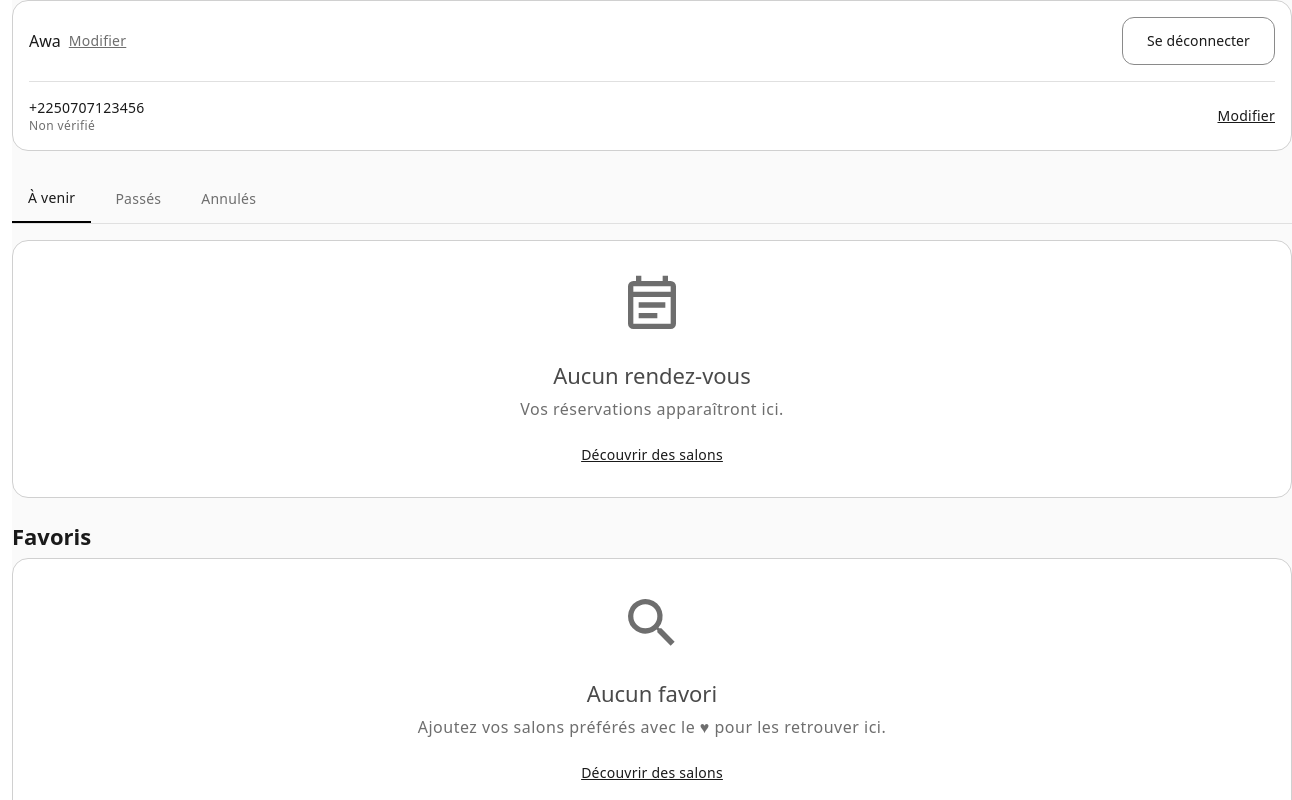
Scenario: « Mon compte » — editing the contact phone › a valid number is saved as checked, and the row shows it
The image size is (1292, 800).
Click the button "Modifier" in the row of "+2250707123456": point(1246, 116) [1218,106,1275,126]
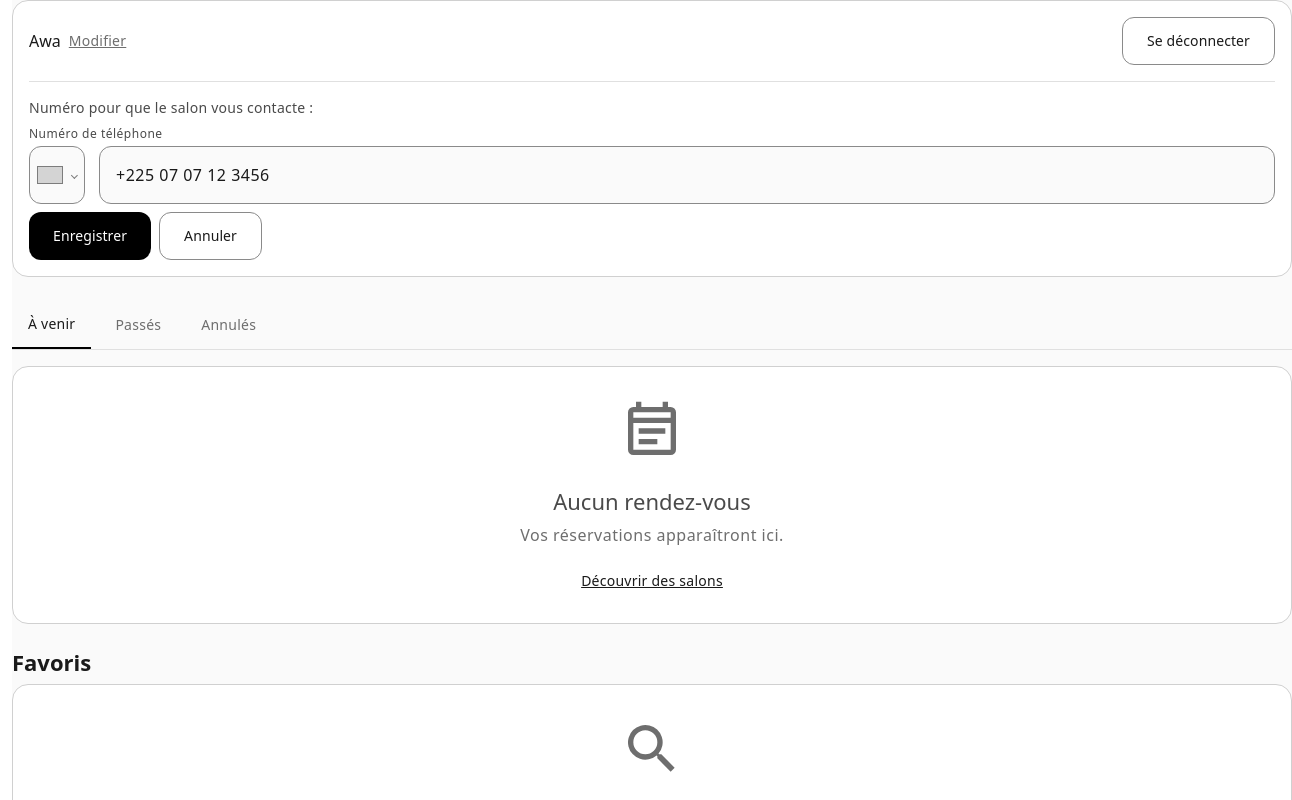
Replace the text in the field labelled "Numéro de téléphone" with "+225 07 07 12 34 99": point(687, 175) [99,146,1275,204]
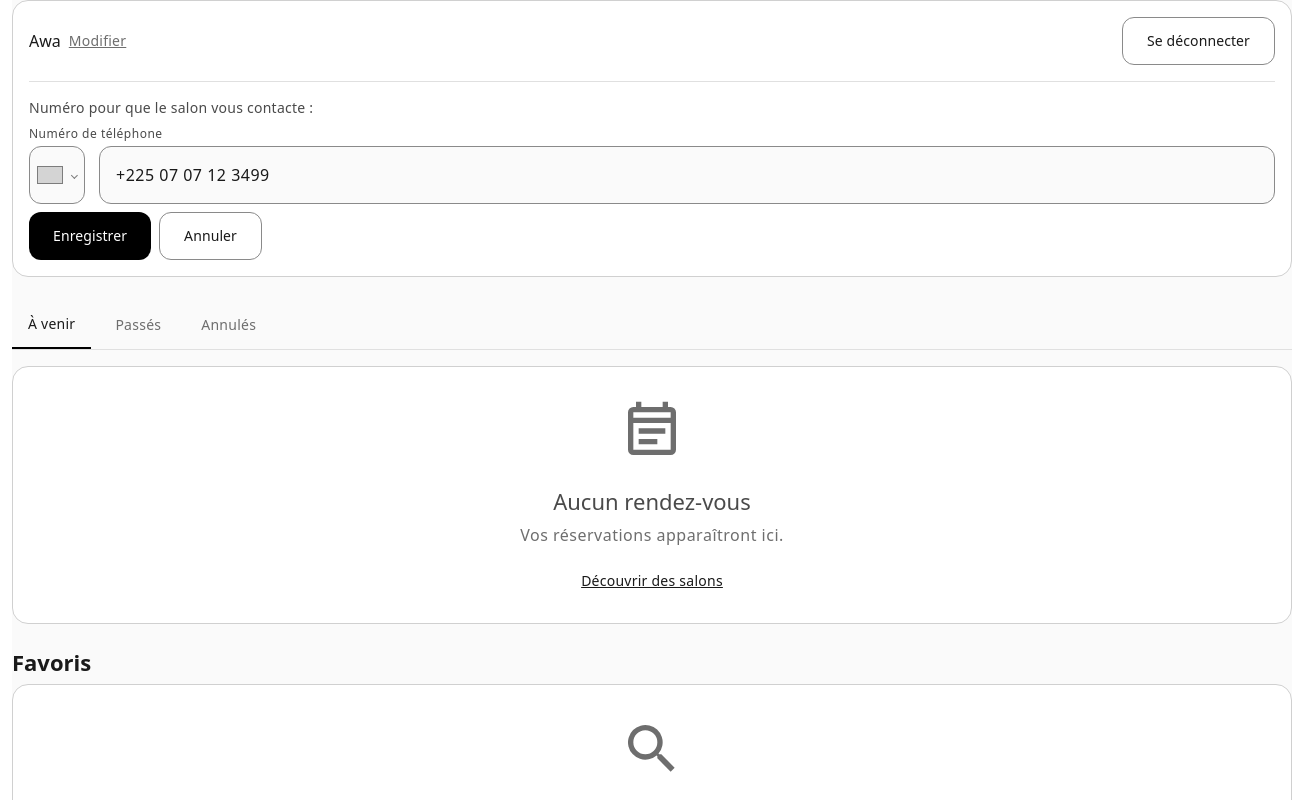
Click the button "Enregistrer": point(90, 236) [29,212,151,260]
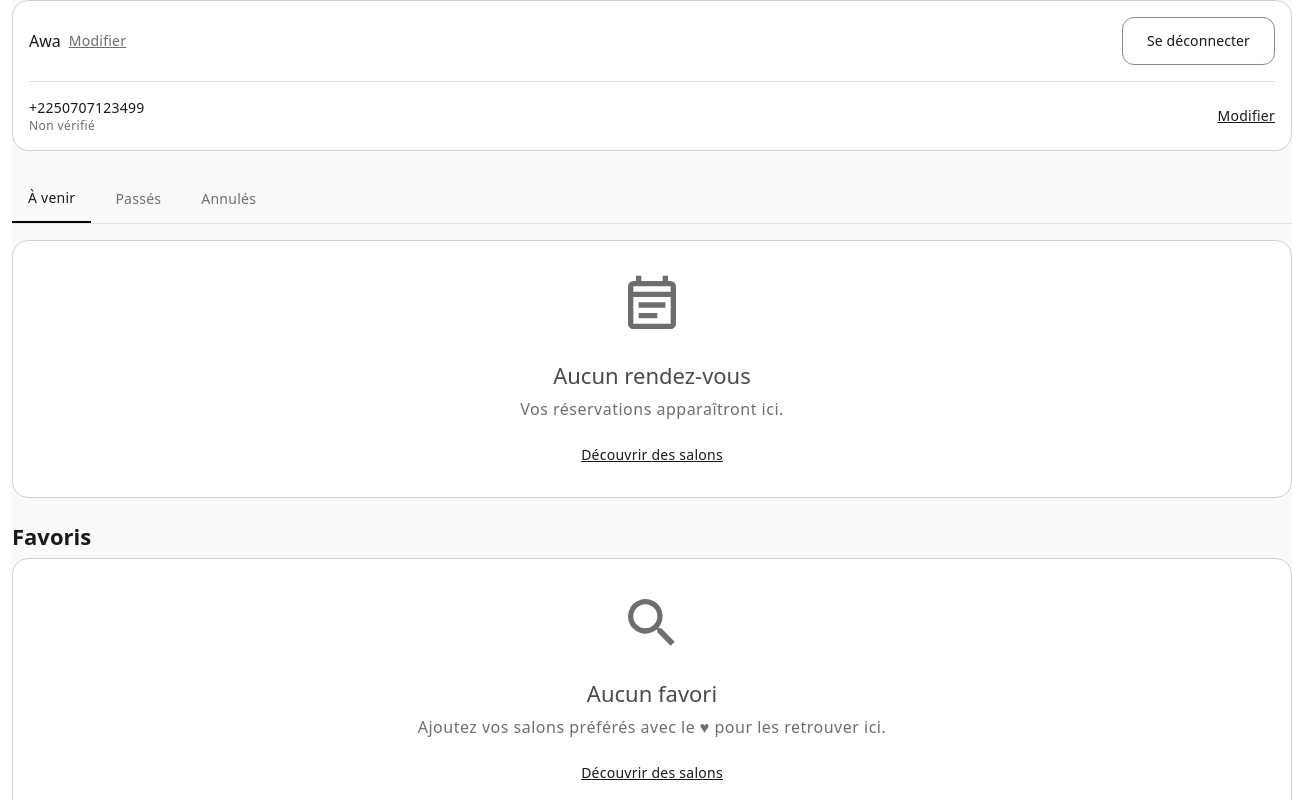
Now the text "+2250707123499" is shown, box [29,98,145,118]
